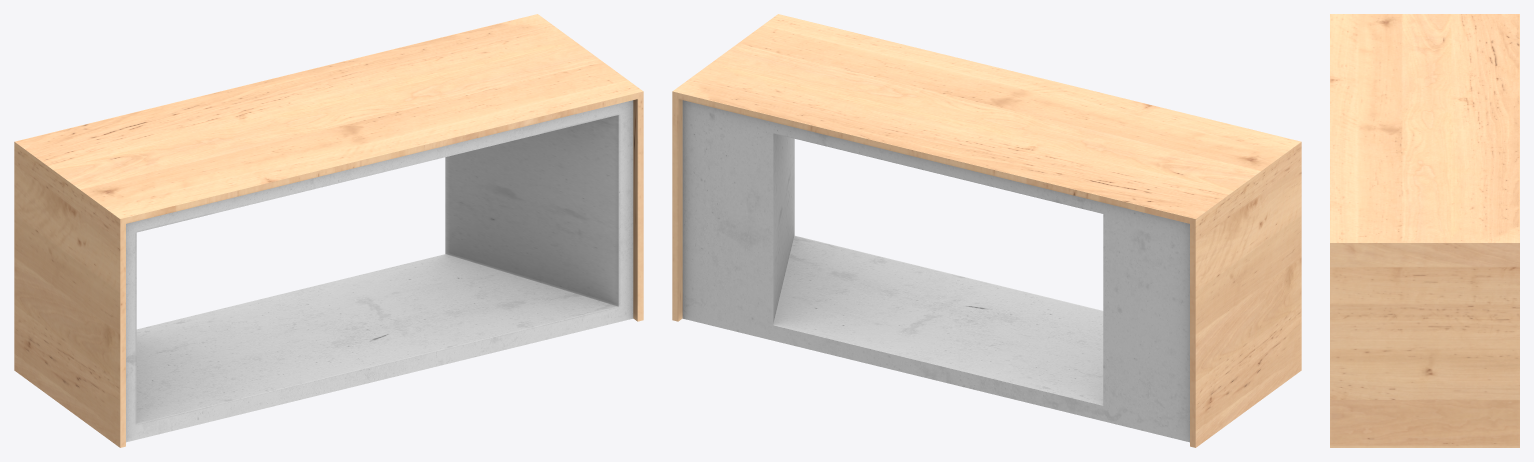
The model's file is table-2.glb.
3 views of the same model, side by side, from view 1: azimuth 30°, elevation 25°; view 2: azimuth 150°, elevation 25°; view 3: azimuth 270°, elevation 25° (orthographic). The views are drawn at different scales.
Visible parts, largest first — view 1: Mesh; view 2: Mesh; view 3: Mesh.
Boxes of the visible parts, x1,y1,x2,y2 form: Mesh: [14, 14, 643, 447]; Mesh: [672, 14, 1301, 447]; Mesh: [1330, 14, 1519, 447].
Bounding box in the file's own units: 3.2 × 1.34 × 1.12.
1 material, 1 textured.
